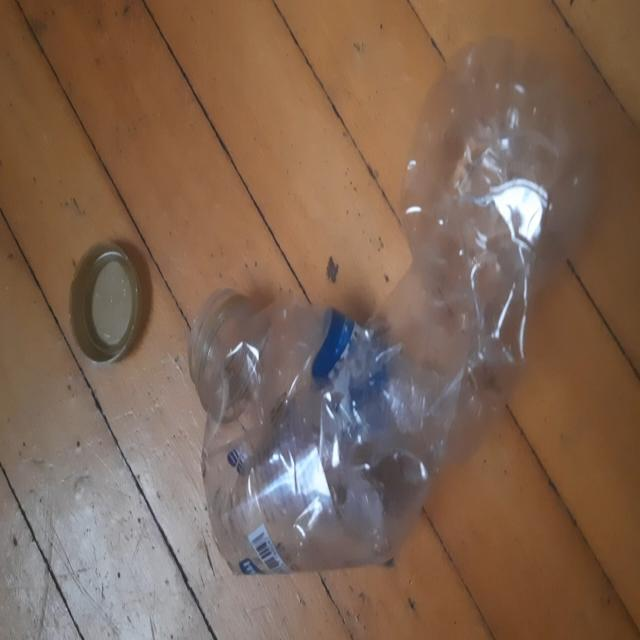Plastic: (191, 35, 594, 577), (68, 243, 151, 369)
